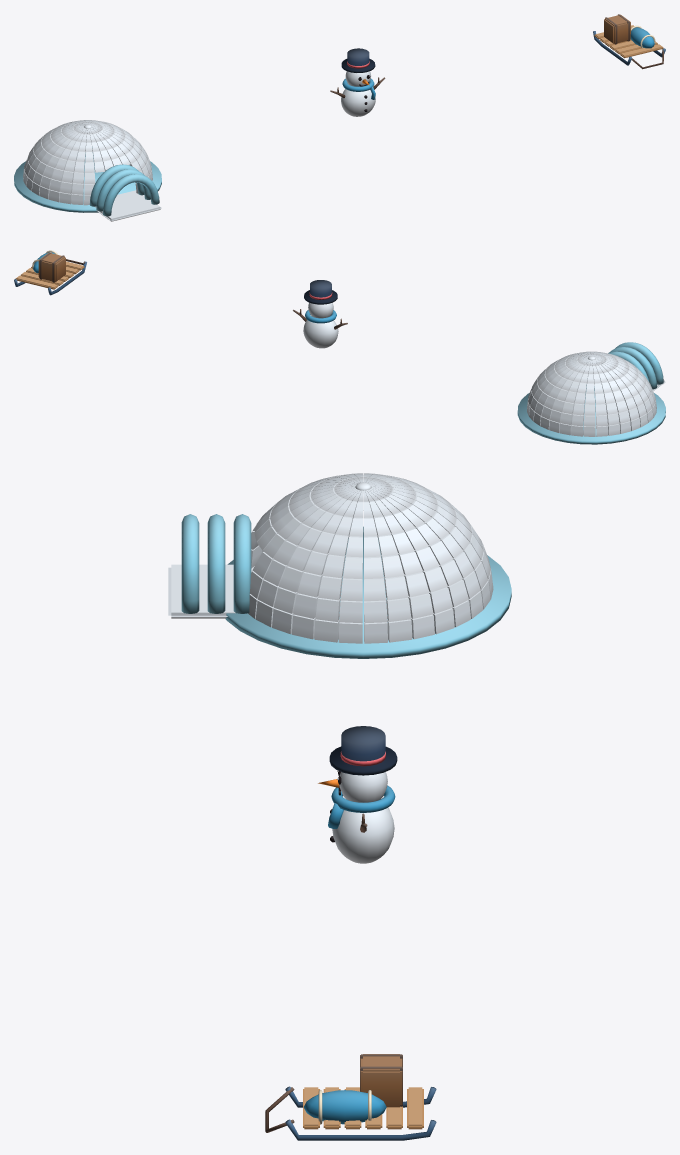
The model's file is Starter.fbx.
3 views of the same model, one above another, from view 1: azimuth 30°, elevation 25°; view 2: azimuth 150°, elevation 25°; view 3: azimuth 270°, elevation 25° (orthographic). The views are drawn at different scales.
Visible parts, largest first — view 1: Starter_ScoutIgloo, Starter_ScarfSnowman, Starter_ExpeditionSled; view 2: Starter_ScoutIgloo, Starter_ScarfSnowman, Starter_ExpeditionSled; view 3: Starter_ScoutIgloo, Starter_ExpeditionSled, Starter_ScarfSnowman.
Part boxes in pixels (bbox=[...]): Starter_ScoutIgloo: bbox=[14, 120, 161, 221]; Starter_ScarfSnowman: bbox=[330, 48, 385, 116]; Starter_ExpeditionSled: bbox=[593, 14, 665, 69]; Starter_ScoutIgloo: bbox=[517, 342, 665, 444]; Starter_ScarfSnowman: bbox=[293, 280, 347, 348]; Starter_ExpeditionSled: bbox=[14, 250, 86, 295]; Starter_ScoutIgloo: bbox=[168, 473, 511, 658]; Starter_ExpeditionSled: bbox=[265, 1054, 436, 1140]; Starter_ScarfSnowman: bbox=[318, 726, 397, 863].
Bounding box in the file's own units: 55.45 × 5.3 × 13.2.
1 material, 1 textured.
